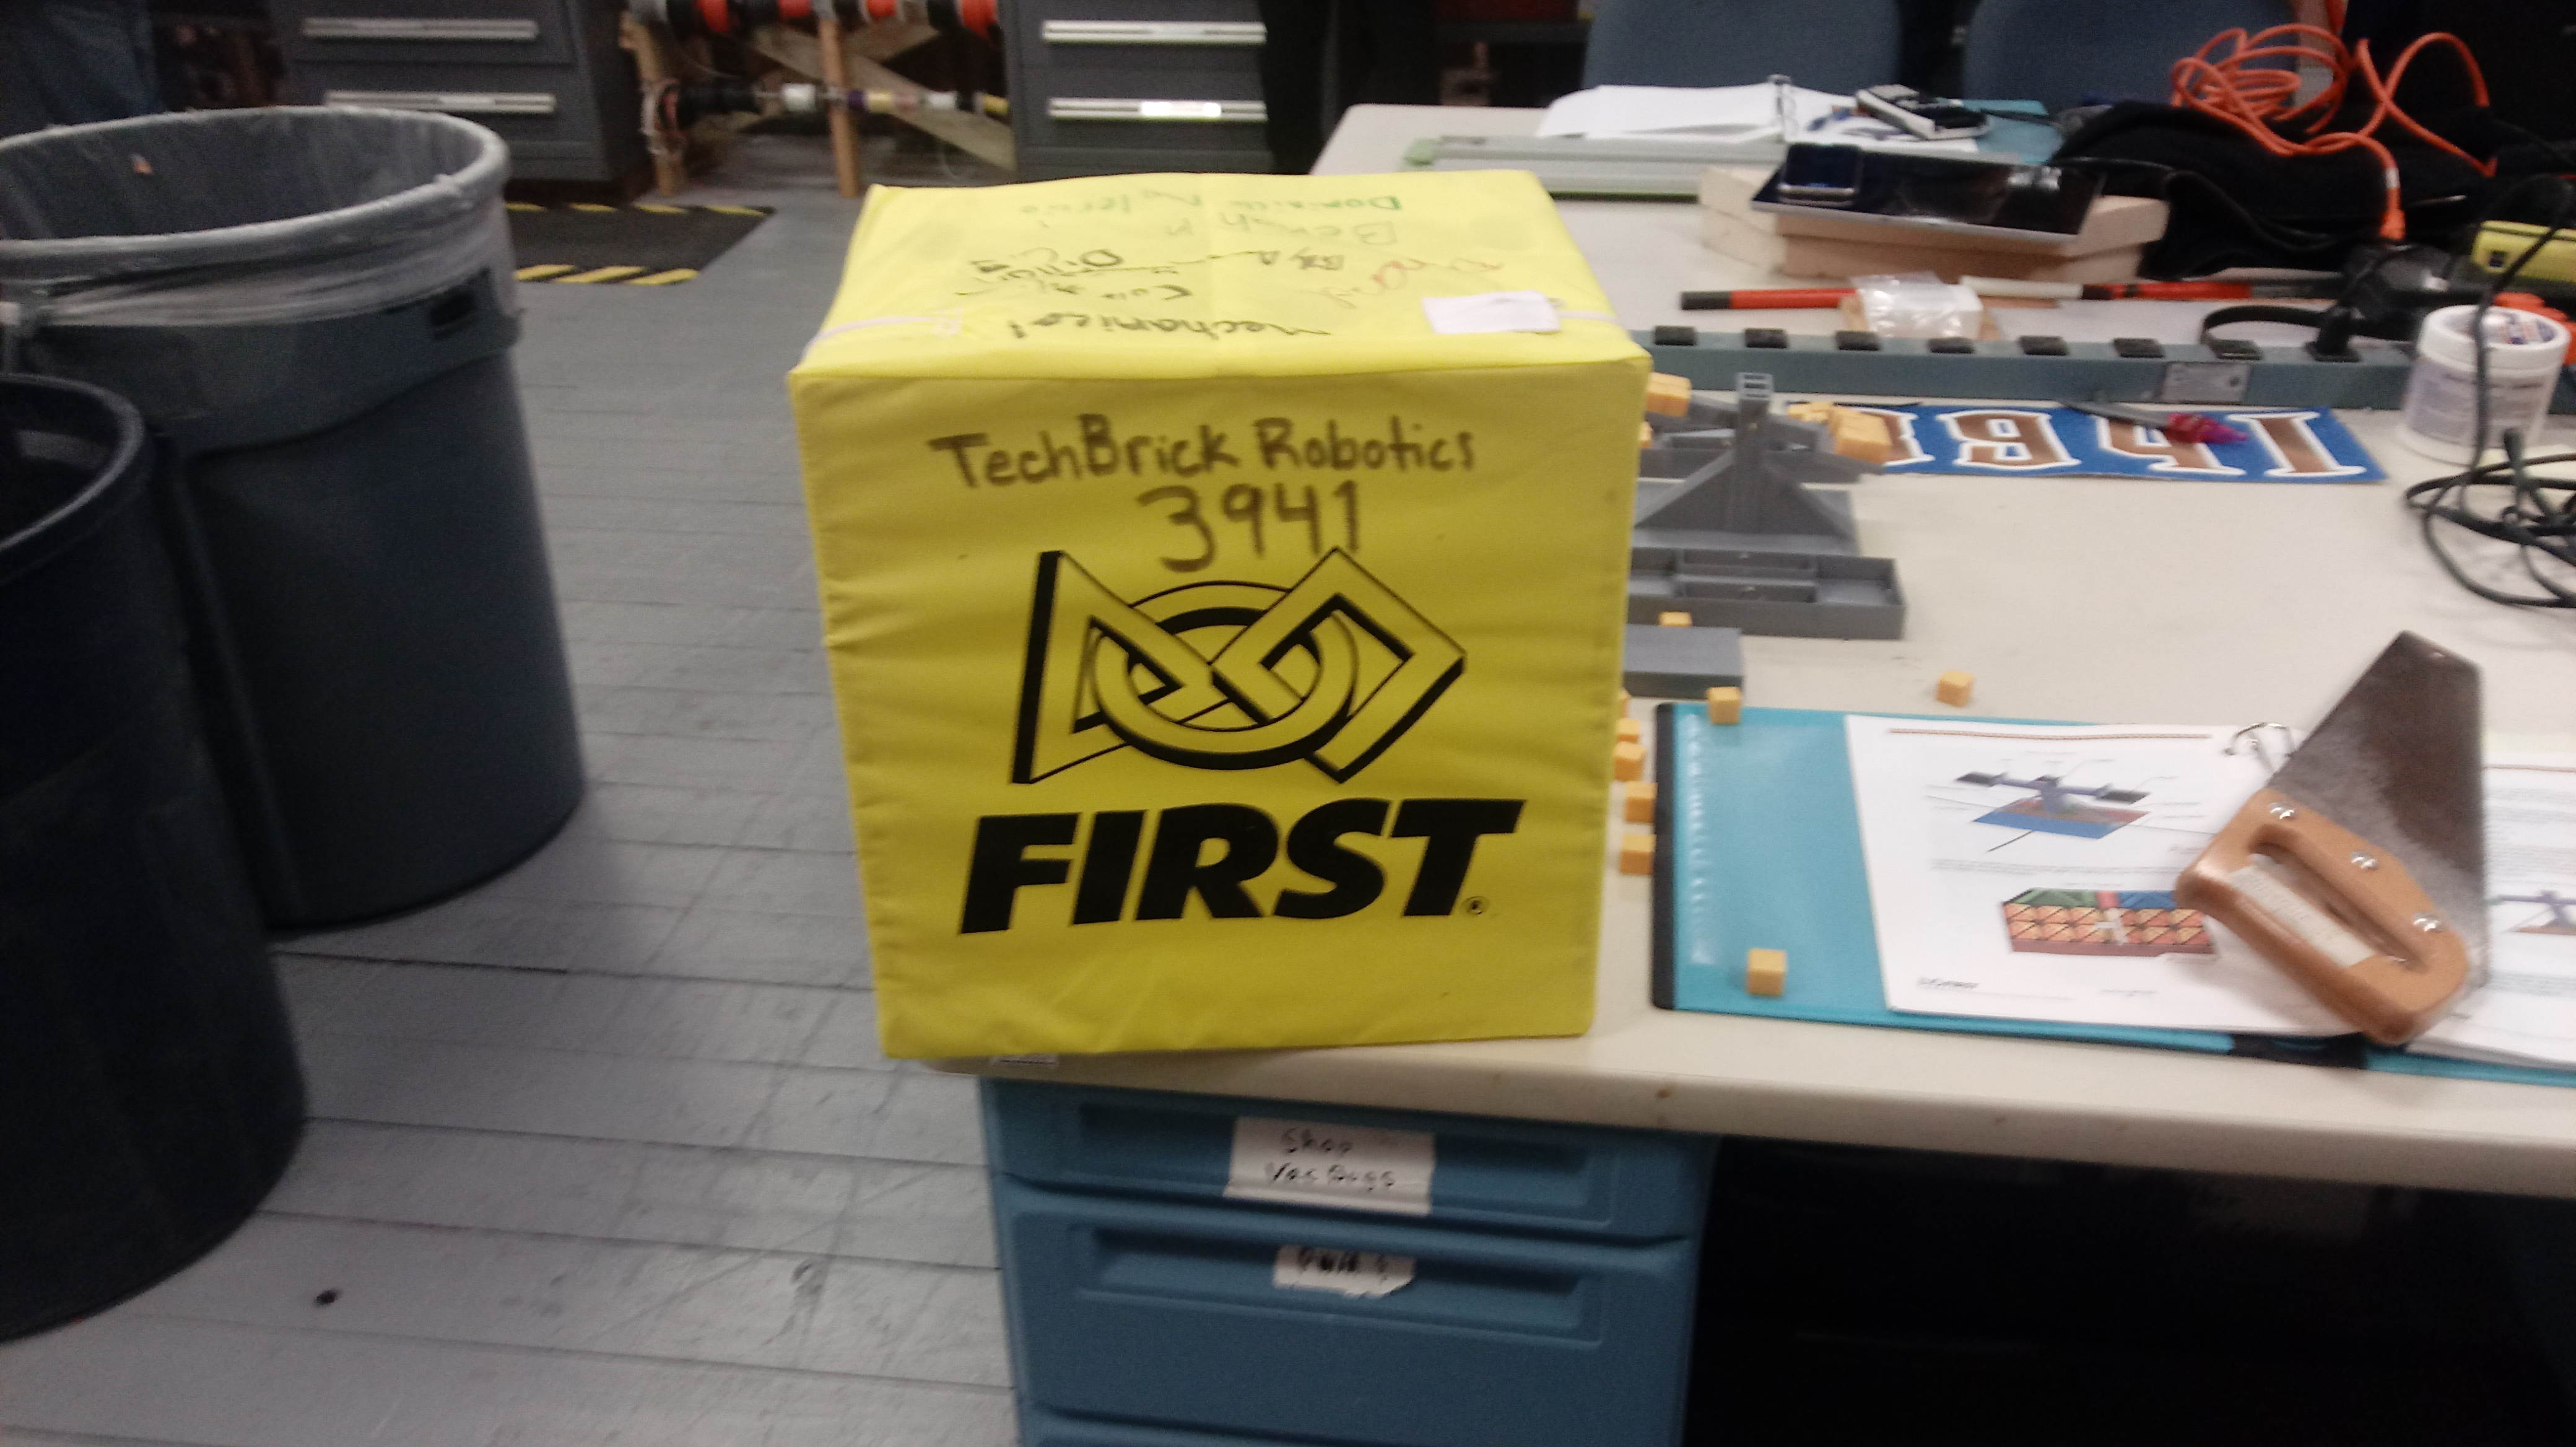cube: (782, 161, 1654, 1065)
